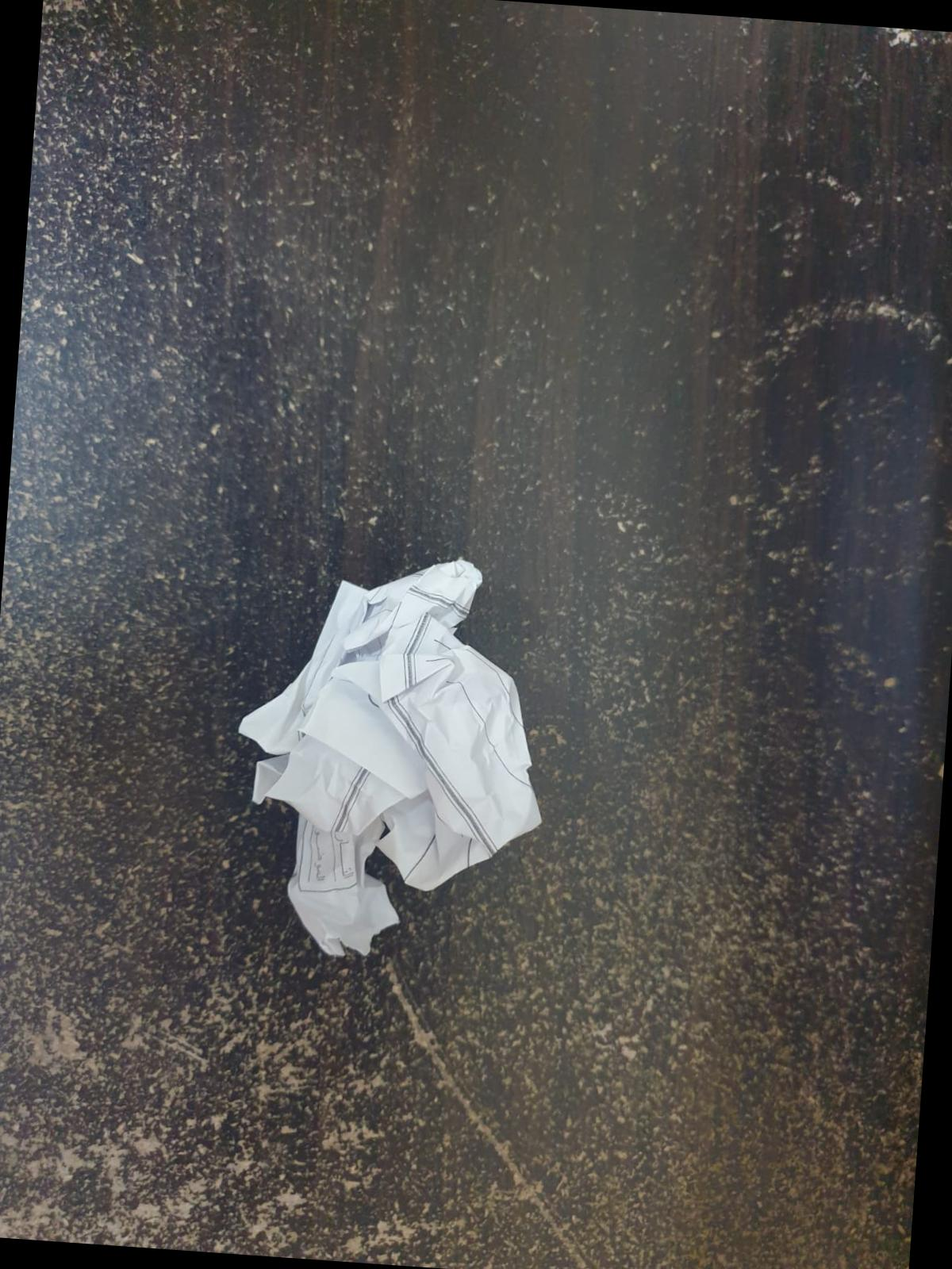Kertas: (239, 555, 541, 957)
